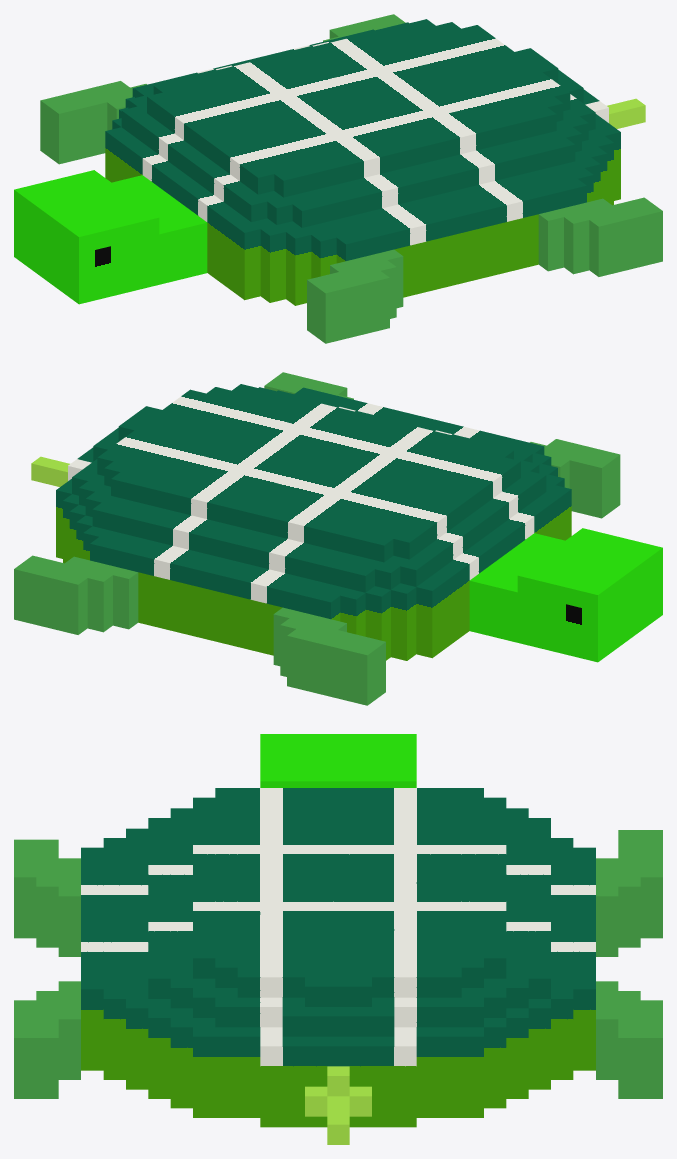
3 renders of one model, top to bottom at view 1: azimuth 30°, elevation 25°; view 2: azimuth 150°, elevation 25°; view 3: azimuth 270°, elevation 25°, orthographic. The views are drawn at different scales.
Visible parts, largest first — view 1: Object; view 2: Object; view 3: Object.
Part boxes in pixels (x1,y1,x2,y2): Object: (14, 14, 662, 343); Object: (14, 372, 662, 705); Object: (14, 734, 662, 1144).
Size of the model in its own units: 37 by 6 by 29.
1 material, 1 textured.
